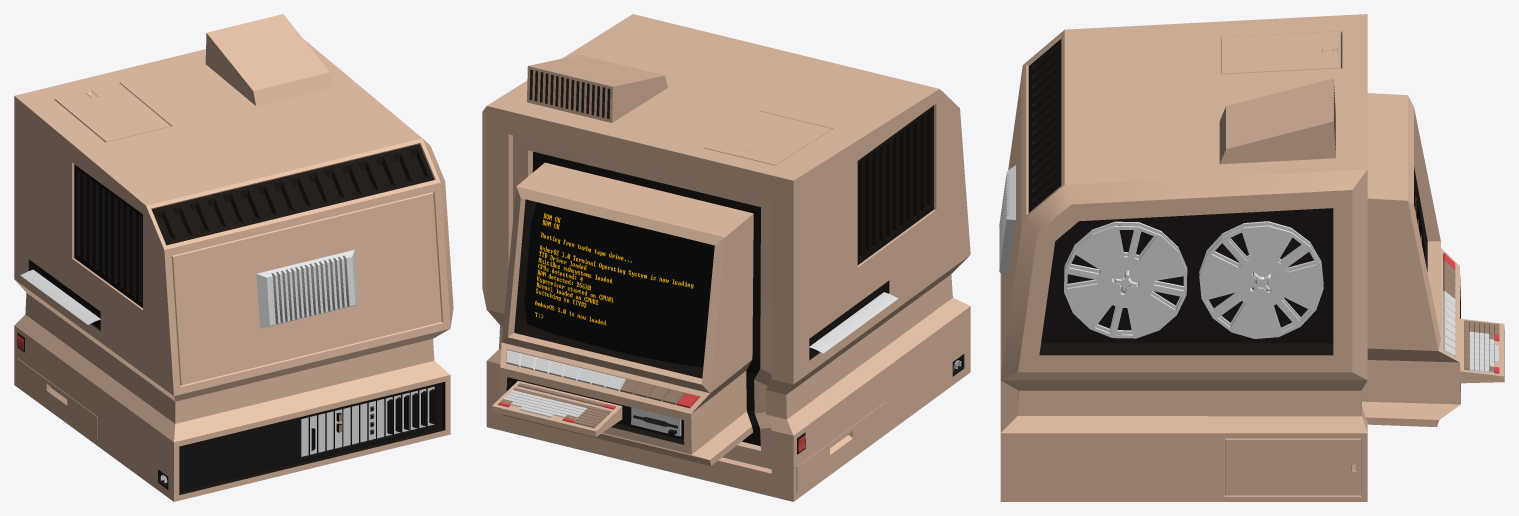
File: Computer.glb
3 renders of one model, left to right at view 1: azimuth 30°, elevation 25°; view 2: azimuth 150°, elevation 25°; view 3: azimuth 270°, elevation 25°, orthographic. The views are drawn at different scales.
Parts seen in each view (by area): view 1: Cube_0; view 2: Cube_0; view 3: Cube_0.
Boxes of the visible parts, <box> form: Cube_0: <box>14,14,453,501</box>; Cube_0: <box>482,14,970,501</box>; Cube_0: <box>999,14,1504,501</box>.
Bounding box in the file's own units: 0.6448 × 0.6732 × 0.8235.
Materials: 8 (1 with a texture image).
